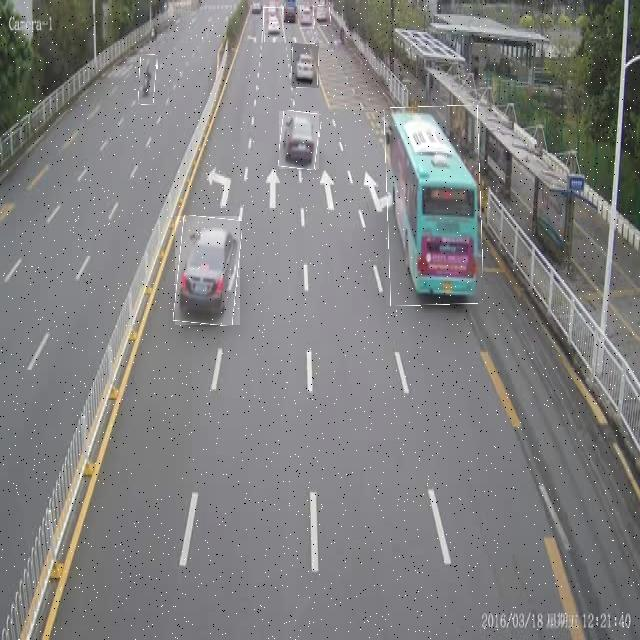Car: (386, 106, 481, 305), (175, 216, 240, 325), (280, 111, 320, 169), (291, 43, 319, 88), (264, 7, 283, 42), (300, 5, 314, 29), (314, 5, 330, 26), (283, 6, 298, 24)
Motorcycle: (140, 55, 158, 105)
